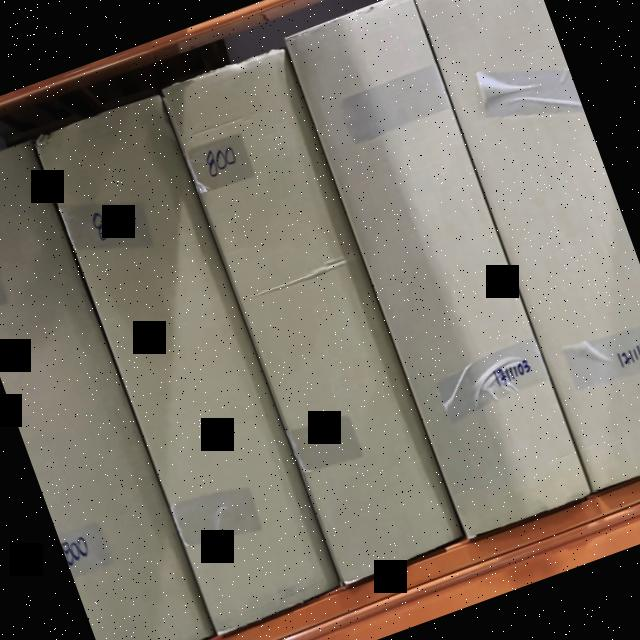box: (290, 0, 587, 534), (39, 99, 338, 624), (168, 49, 462, 578), (414, 0, 640, 490)
